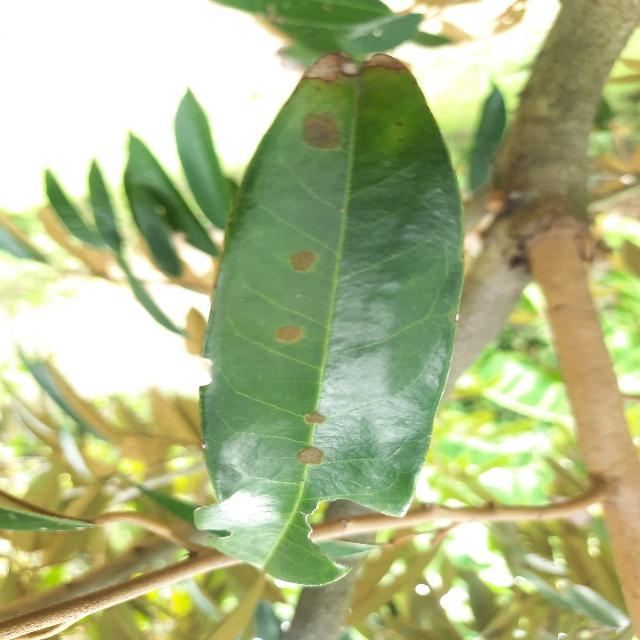Algal Leaf Spot: (190, 43, 461, 591)
